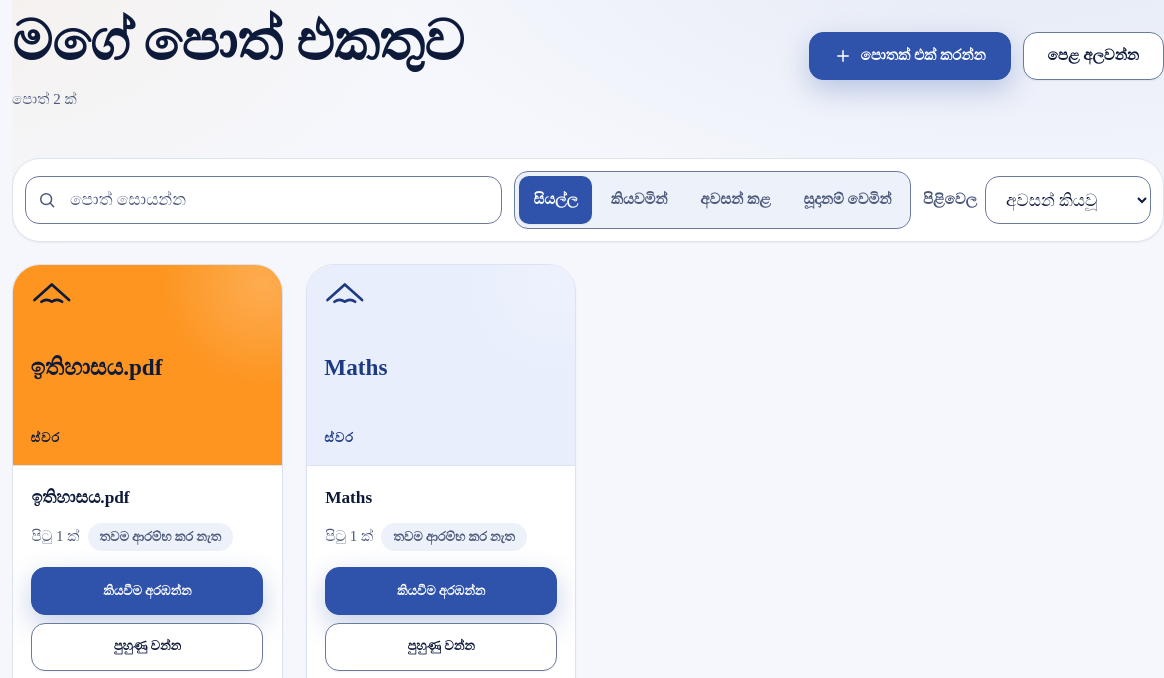
Test: the shelf › searches by title and by the file that was uploaded
In the search field labelled "පොත් සොයන්න": (264,200) [25,176,502,224], type "ගණිතය"
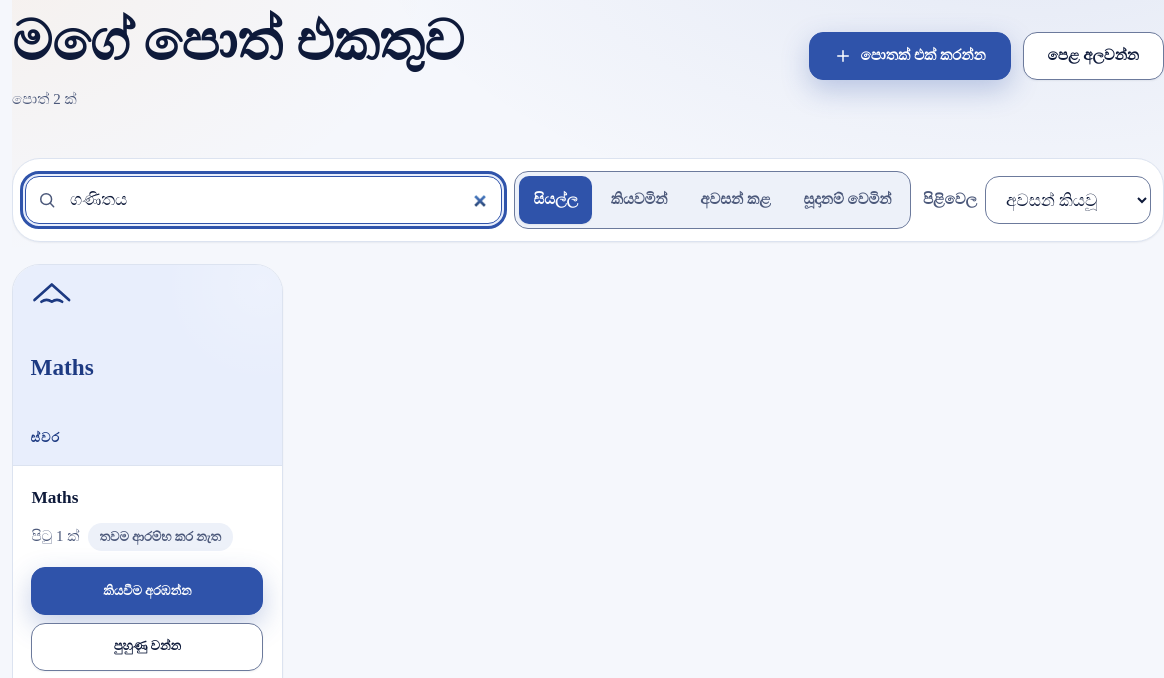
Check: the heading "Maths" is shown, box [31,488,78,507]
Check: the text "ඉතිහාසය.pdf" is gone
